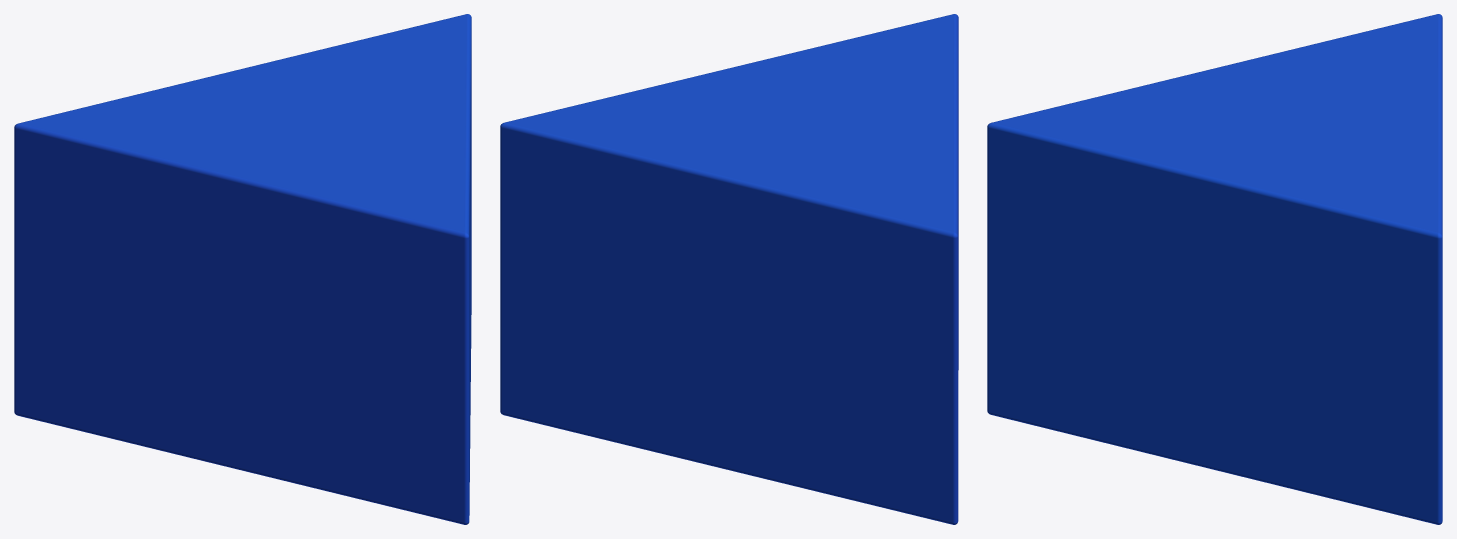
File: tooth.glb
3 views of the same model, side by side, from view 1: azimuth 30°, elevation 25°; view 2: azimuth 150°, elevation 25°; view 3: azimuth 270°, elevation 25° (orthographic).
Parts seen in each view (by area): view 1: triangular_prism.1; view 2: triangular_prism.1; view 3: triangular_prism.1.
Boxes of the visible parts, x1,y1,x2,y2 form: triangular_prism.1: (14,14,471,524); triangular_prism.1: (500,14,958,524); triangular_prism.1: (987,14,1442,524).
Bounding box in the file's own units: 0.1591 × 0.0973 × 0.1375.
1 material, 1 textured.
